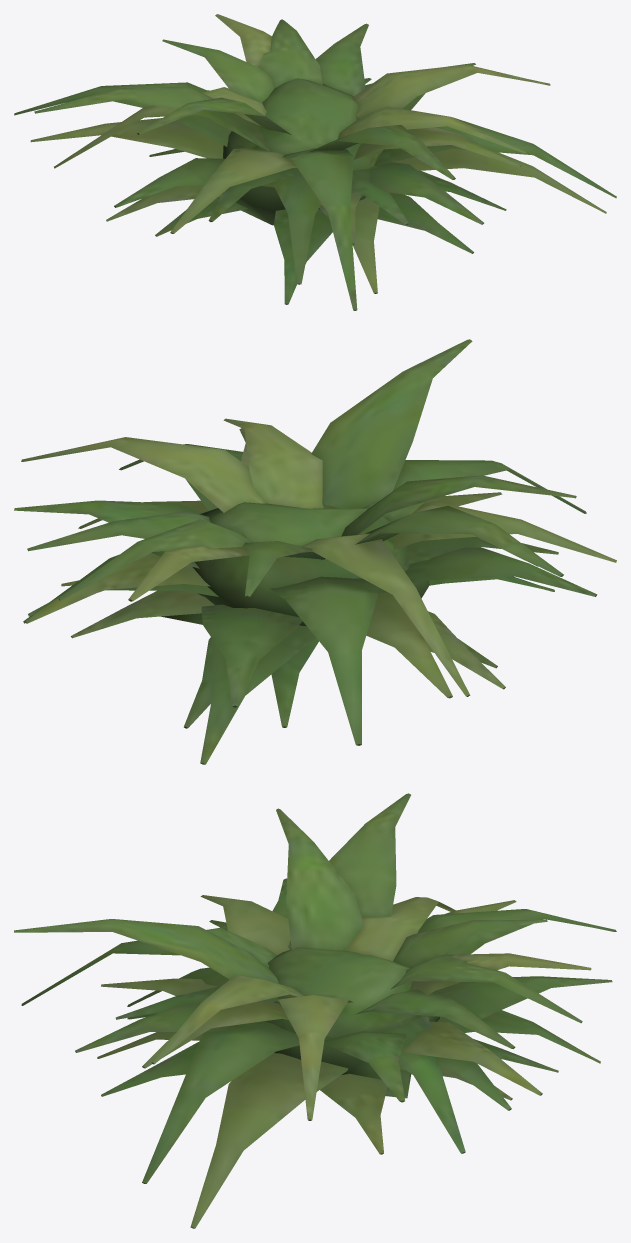
Rendered from shrub.glb.
3 views of the same model, one above another, from view 1: azimuth 30°, elevation 25°; view 2: azimuth 150°, elevation 25°; view 3: azimuth 270°, elevation 25° (orthographic). The views are drawn at different scales.
Parts seen in each view (by area): view 1: Shrub; view 2: Shrub; view 3: Shrub.
Boxes of the visible parts, <box> form: Shrub: <box>14,14,616,310</box>; Shrub: <box>14,339,616,764</box>; Shrub: <box>14,793,616,1228</box>.
Bounding box in the file's own units: 2 × 0.6496 × 1.92.
1 material, 1 textured.
